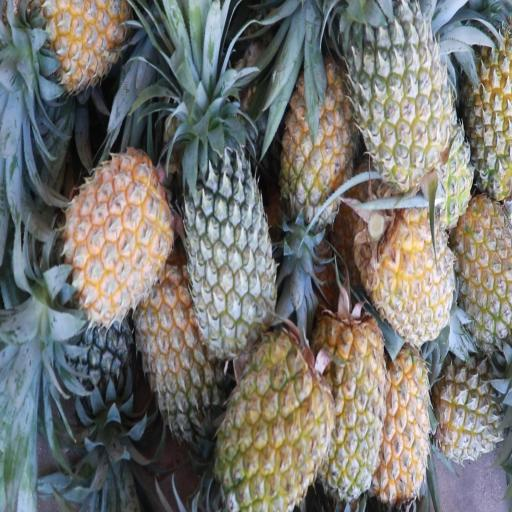------------------------------: (354, 8, 450, 174), (144, 272, 233, 432), (457, 193, 512, 337), (466, 33, 512, 195), (438, 360, 508, 458)
Pineapple - v8 v1: (223, 326, 331, 507), (68, 146, 170, 314), (320, 316, 388, 495), (287, 57, 362, 218), (372, 198, 456, 336), (40, 0, 133, 85), (383, 338, 430, 492)
